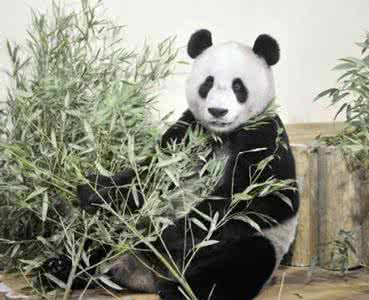panda: (41, 24, 302, 300)
